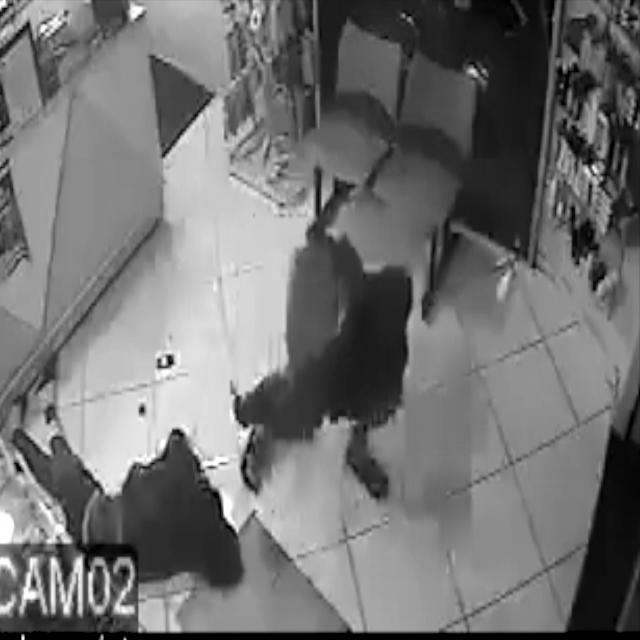weapon: (228, 380, 238, 396)
